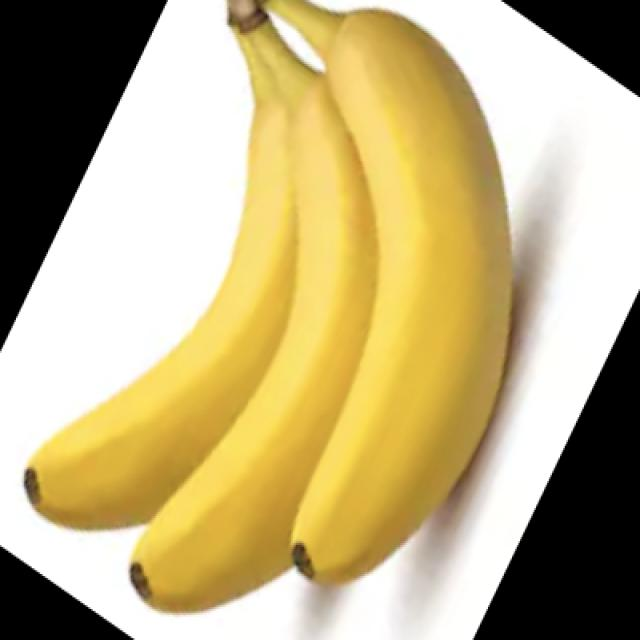god quality banana: (26, 2, 512, 612)
